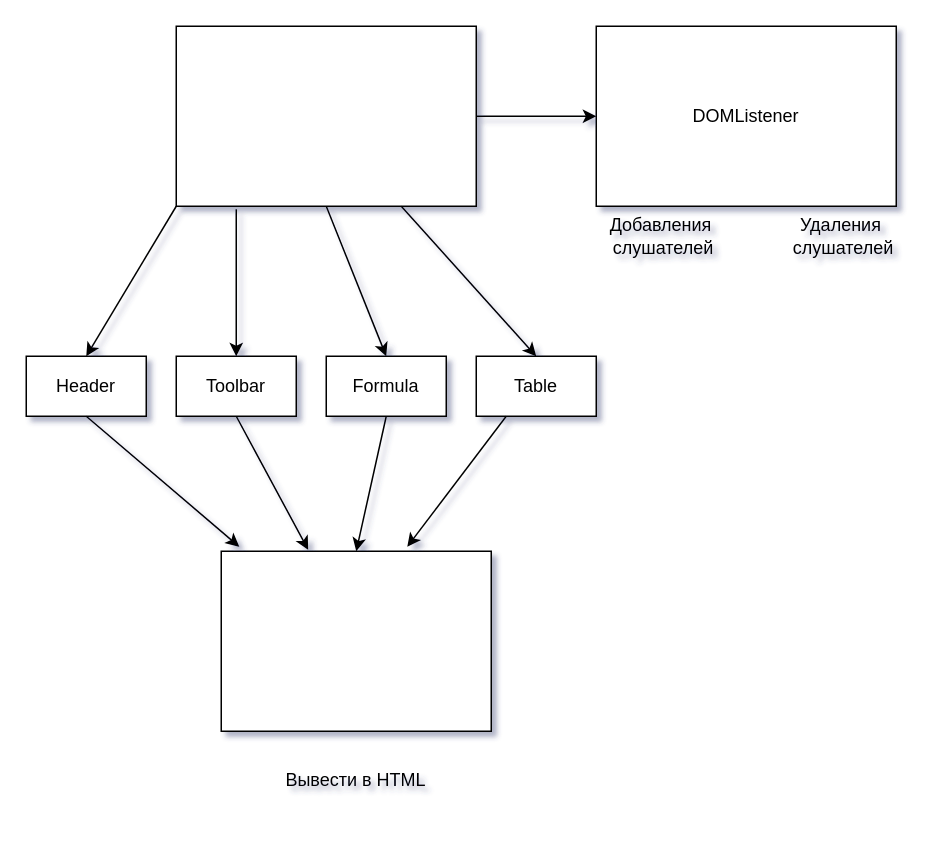
Image size: 932x842. Some labels were removed from this diagram. The shapes that lost their labels are listed below. From the top down, each one's centre as x and y in pixels, then its label:
(325,115): ExcelComponent
(355,640): Excel
